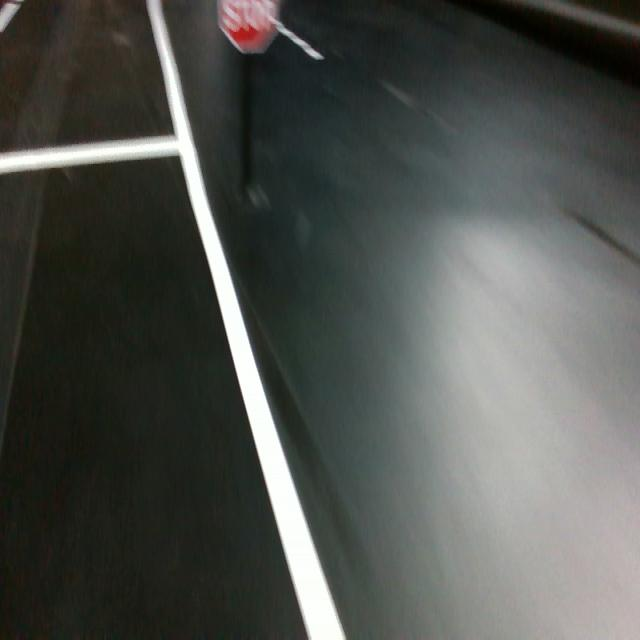stop-sign: (215, 0, 281, 55)
